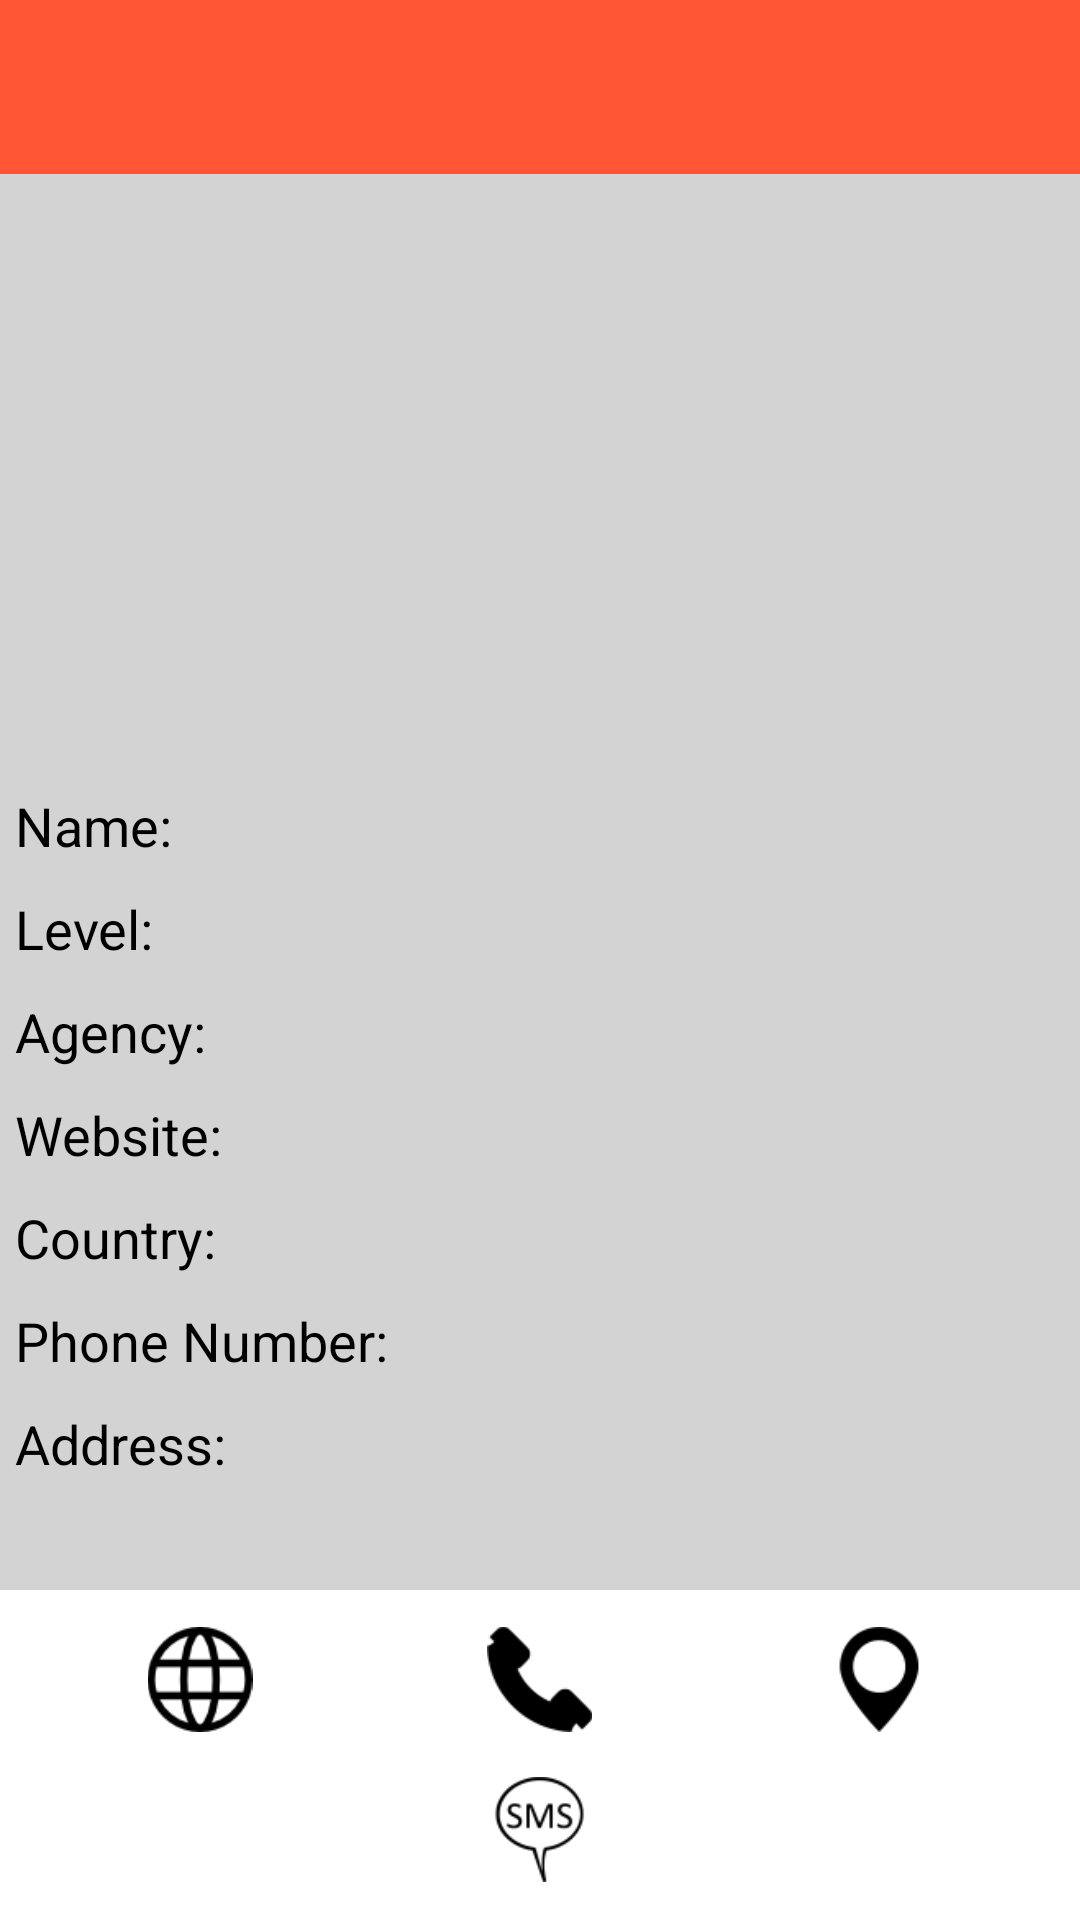

Point at icon controls on the screen. Image size 1080*1920, points as (x,y).
call: (539,1679)
map: (879,1679)
web: (200,1679)
